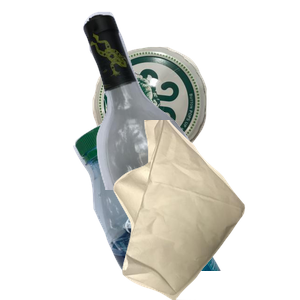glass: (81, 10, 300, 190)
metal: (90, 44, 289, 195)
plastic: (71, 120, 300, 300)
trash: (111, 120, 300, 300)
